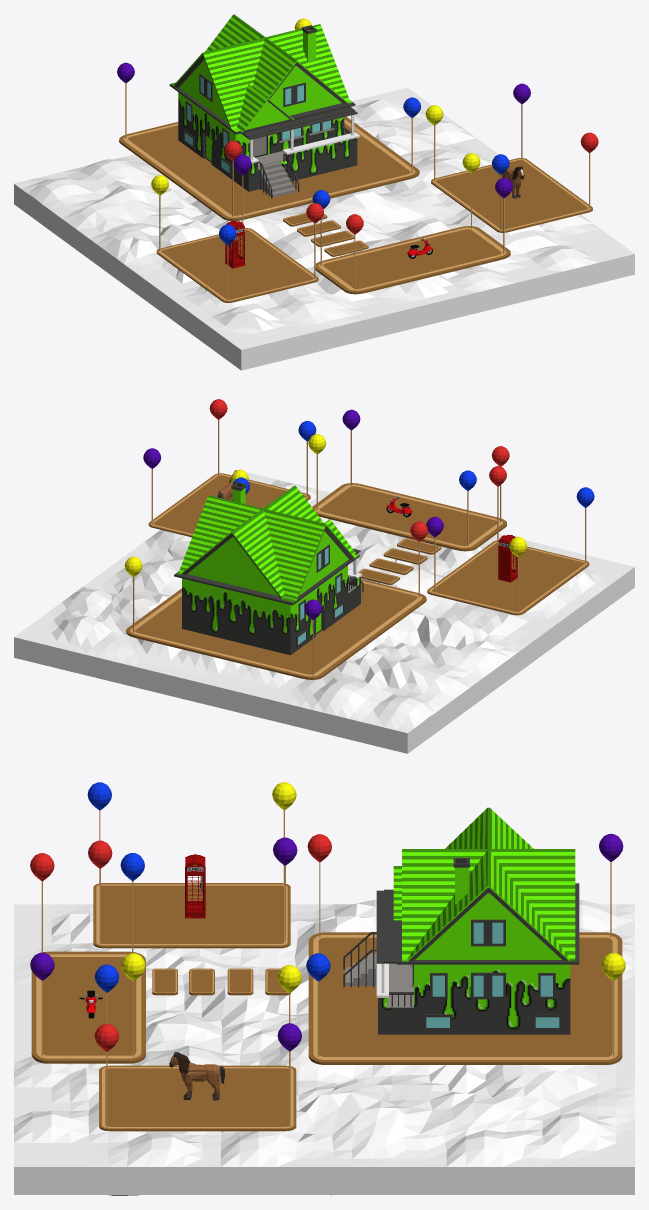
The picture shows the model from 3 angles, top to bottom: view 1: azimuth 30°, elevation 25°; view 2: azimuth 150°, elevation 25°; view 3: azimuth 270°, elevation 25°; orthographic projection. The views are drawn at different scales.
Parts seen in each view (by area): view 1: Cube.013, Cube.754, OBJRANDOM_PHONEBOOTH; view 2: Cube.013, Cube.754, OBJRANDOM_PHONEBOOTH; view 3: Cube.013, Cube.754, ANIMAL_CABALLO, OBJRANDOM_PHONEBOOTH.
Part boxes in pixels (box(x1,y1,x2,y2)): Cube.013: box(14, 18, 634, 370); Cube.754: box(169, 14, 360, 198); OBJRANDOM_PHONEBOOTH: box(225, 221, 245, 268); Cube.013: box(14, 399, 634, 753); Cube.754: box(174, 482, 363, 655); OBJRANDOM_PHONEBOOTH: box(498, 535, 517, 582); Cube.013: box(14, 782, 634, 1194); Cube.754: box(343, 807, 579, 1034); ANIMAL_CABALLO: box(169, 1051, 224, 1100); OBJRANDOM_PHONEBOOTH: box(185, 854, 205, 918).
Bounding box in the file's own units: 4000 × 1660 × 4000.
Materials: 40 (2 with a texture image).
